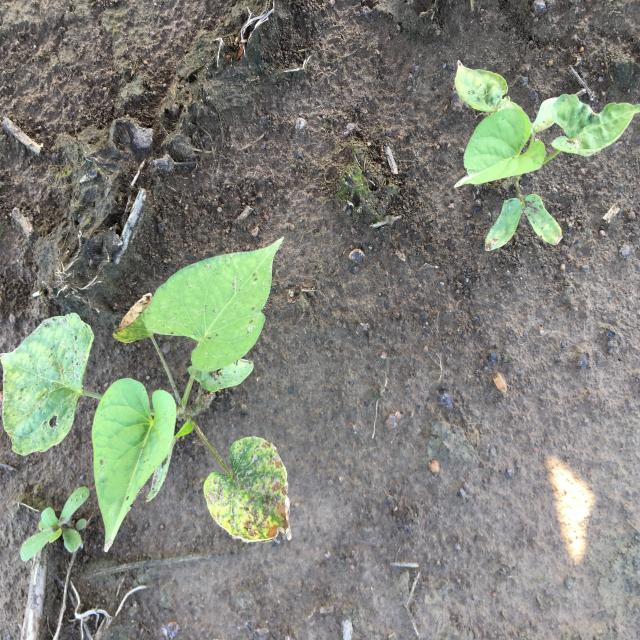MorningGlory: (0, 236, 291, 552), (455, 60, 640, 251)
Purslane: (20, 486, 90, 562)
